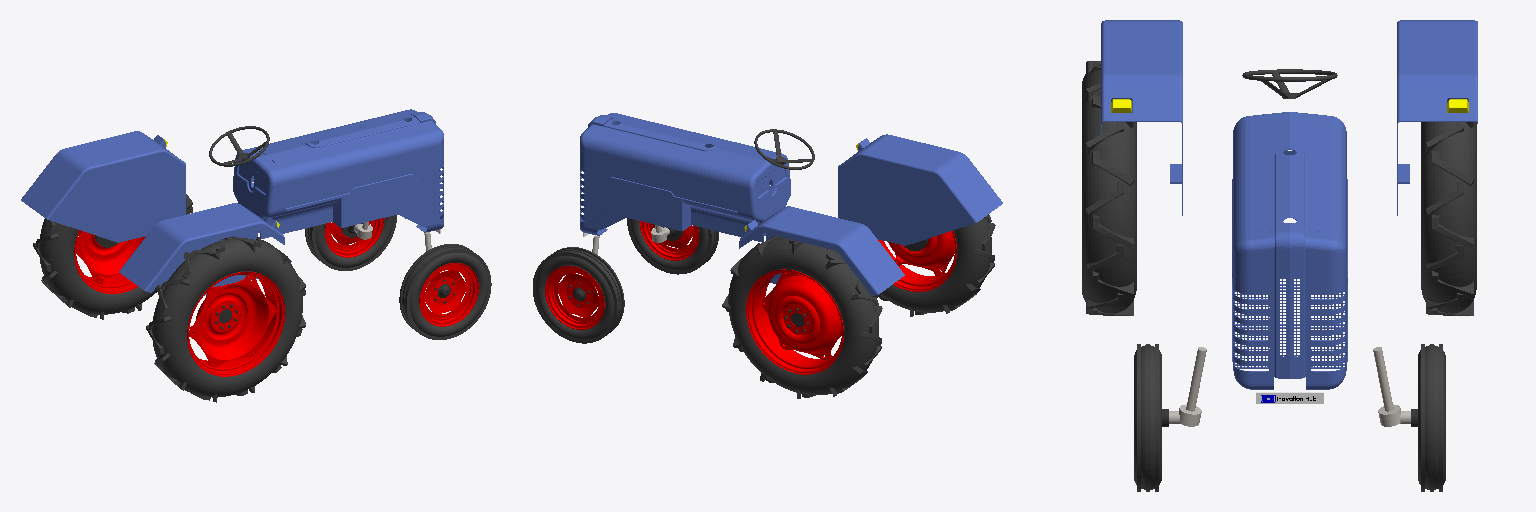
--- What the picture shows (computed from the rendered views, not written in the file) ---
The picture shows the robot from 3 angles, left to right: view 1: azimuth 30°, elevation 25°; view 2: azimuth 150°, elevation 25°; view 3: azimuth 270°, elevation 25°; orthographic projection.
Robot: Tractor4 — 22 links, 21 joints (6 continuous, 15 fixed); root link base_link; default pose: all joints at 0.
Visible links, largest first — view 1: body, rear_right_tyre, rear_right_rim, rear_left_tyre, front_right_tyre, front_right_rim, rear_left_rim, front_left_tyre, front_left_rim, driver; view 2: body, rear_left_tyre, rear_left_rim, rear_right_tyre, front_left_tyre, front_left_rim, rear_right_rim, front_right_tyre, front_right_rim, driver; view 3: body, rear_right_tyre, rear_left_tyre, front_left_tyre, front_right_tyre, driver, front_left_steering, front_right_steering, backplate, ligth.
Link boxes in pixels (x1,y1,x2,y2): body: (21, 109, 443, 295); rear_right_tyre: (146, 236, 305, 402); rear_right_rim: (187, 271, 284, 376); rear_left_tyre: (33, 194, 192, 319); front_right_tyre: (399, 244, 491, 339); front_right_rim: (419, 263, 478, 326); rear_left_rim: (74, 230, 145, 293); front_left_tyre: (305, 215, 396, 270); front_left_rim: (325, 218, 384, 257); driver: (209, 126, 269, 166); body: (580, 113, 1002, 296); rear_left_tyre: (722, 236, 882, 398); rear_left_rim: (746, 269, 843, 374); rear_right_tyre: (873, 214, 995, 316); front_left_tyre: (533, 247, 624, 343); front_left_rim: (545, 266, 604, 329); rear_right_rim: (878, 231, 956, 291); front_right_tyre: (627, 218, 718, 274); front_right_rim: (639, 221, 698, 260); driver: (754, 129, 814, 169); body: (1101, 20, 1477, 389); rear_right_tyre: (1082, 61, 1136, 315); rear_left_tyre: (1421, 122, 1476, 315); front_left_tyre: (1418, 344, 1445, 491); front_right_tyre: (1134, 344, 1161, 491); driver: (1242, 69, 1337, 98); front_left_steering: (1373, 347, 1410, 426); front_right_steering: (1169, 347, 1206, 426); backplate: (1256, 392, 1323, 403); ligth: (1111, 99, 1468, 112).
Size in the robot's own frame: 2.75 by 1.75 by 1.5 metres.
21 mesh visuals loaded from 22 distinct referenced files (21 binary STL); not drawn: 1 (reference not matched to a file when rendering).

robot.urdf — Tractor4:
<?xml version="1.0" encoding="utf-8"?>
<!-- This URDF was automatically created by SolidWorks to URDF Exporter! Originally created by Stephen Brawner ([email redacted]) 
     Commit Version: 1.6.0-4-g7f85cfe  Build Version: 1.6.7995.38578
     For more information, please see http://wiki.ros.org/sw_urdf_exporter -->
<robot
  name="Tractor4">
  <link
    name="base_link">
    <inertial>
      <origin
        xyz="0.10143 -0.00047213 0.12058"
        rpy="0 0 0" />
      <mass
        value="173.31" />
      <inertia
        ixx="5.0819"
        ixy="0.0048009"
        ixz="-0.024768"
        iyy="6.8242"
        iyz="-0.0042735"
        izz="9.0147" />
    </inertial>
    <visual>
      <origin
        xyz="0 0 0"
        rpy="0 0 0" />
      <geometry>
        <mesh
          filename="package://tractor_description/meshes/visual/base_link.STL" />
      </geometry>
      <material
        name="">
        <color
          rgba="0.25 0.25 0.25 1" />
      </material>
    </visual>
    <collision>
      <origin
        xyz="0 0 0"
        rpy="0 0 0" />
      <geometry>
        <mesh
          filename="package://tractor_description/meshes/visual/base_link.STL" />
      </geometry>
    </collision>
  </link>
  <link
    name="dk_logo_frame">
    <inertial>
      <origin
        xyz="-0.099222 -2.0817E-17 -0.0125"
        rpy="0 0 0" />
      <mass
        value="0.0098297" />
      <inertia
        ixx="1.0288E-06"
        ixy="-5.5081E-22"
        ixz="-2.3552E-22"
        iyy="3.4651E-06"
        iyz="-1.4012E-23"
        izz="4.4529E-06" />
    </inertial>
    <visual>
      <origin
        xyz="0 0 0"
        rpy="0 0 0" />
      <geometry>
        <mesh
          filename="package://tractor_description/meshes/visual/dk_logo_frame.STL" />
      </geometry>
      <material
        name="">
        <color
          rgba="0 0 1 1" />
      </material>
    </visual>
    <collision>
      <origin
        xyz="0 0 0"
        rpy="0 0 0" />
      <geometry>
        <mesh
          filename="package://tractor_description/meshes/visual/dk_logo_frame.STL" />
      </geometry>
    </collision>
  </link>
  <joint
    name="dk_logo_frame_joint"
    type="fixed">
    <origin
      xyz="1.34990899028511 0.00301220430976148 -0.0329999999999998"
      rpy="-1.5707963267949 0 1.5707963267949" />
    <parent
      link="base_link" />
    <child
      link="dk_logo_frame" />
    <axis
      xyz="0 0 0" />
  </joint>
  <link
    name="dk_word">
    <inertial>
      <origin
        xyz="0.00035618 -0.00013532 -0.012369"
        rpy="0 0 0" />
      <mass
        value="0.00040282" />
      <inertia
        ixx="6.16E-09"
        ixy="-1.4975E-10"
        ixz="-1.0686E-14"
        iyy="3.35E-09"
        iyz="-6.2806E-16"
        izz="8.7329E-09" />
    </inertial>
    <visual>
      <origin
        xyz="0 0 0"
        rpy="0 0 0" />
      <geometry>
        <mesh
          filename="package://tractor_description/meshes/visual/dk_word.STL" />
      </geometry>
      <material
        name="">
        <color
          rgba="1 1 1 1" />
      </material>
    </visual>
    <collision>
      <origin
        xyz="0 0 0"
        rpy="0 0 0" />
      <geometry>
        <mesh
          filename="package://tractor_description/meshes/visual/dk_word.STL" />
      </geometry>
    </collision>
  </link>
  <joint
    name="dk_word_joint"
    type="fixed">
    <origin
      xyz="-0.0992222959492163 0 -0.00300000000000011"
      rpy="0 0 0" />
    <parent
      link="dk_logo_frame" />
    <child
      link="dk_word" />
    <axis
      xyz="0 0 0" />
  </joint>
  <link
    name="inovation_word">
    <inertial>
      <origin
        xyz="0.01677 0.0015005 -0.013"
        rpy="0 0 0" />
      <mass
        value="0.0076677" />
      <inertia
        ixx="1.7789E-07"
        ixy="-5.6737E-09"
        ixz="1.1923E-13"
        iyy="1.4187E-07"
        iyz="8.9729E-14"
        izz="2.7375E-07" />
    </inertial>
    <visual>
      <origin
        xyz="0 0 0"
        rpy="0 0 0" />
      <geometry>
        <mesh
          filename="package://tractor_description/meshes/visual/inovation_word.STL" />
      </geometry>
      <material
        name="">
        <color
          rgba="0 0 0 1" />
      </material>
    </visual>
    <collision>
      <origin
        xyz="0 0 0"
        rpy="0 0 0" />
      <geometry>
        <mesh
          filename="package://tractor_description/meshes/visual/inovation_word.STL" />
      </geometry>
    </collision>
  </link>
  <joint
    name="inovation_word_joint"
    type="fixed">
    <origin
      xyz="0.01 0 0"
      rpy="0 0 0" />
    <parent
      link="dk_logo_frame" />
    <child
      link="inovation_word" />
    <axis
      xyz="0 0 0" />
  </joint>
  <link
    name="backplate">
    <inertial>
      <origin
        xyz="-0.0030122 -2.0817E-17 -0.005"
        rpy="0 0 0" />
      <mass
        value="0.15" />
      <inertia
        ixx="3.25E-05"
        ixy="-1.676E-19"
        ixz="-4.6118E-20"
        iyy="0.0011263"
        iyz="-8.8258E-22"
        izz="0.0011563" />
    </inertial>
    <visual>
      <origin
        xyz="0 0 0"
        rpy="0 0 0" />
      <geometry>
        <mesh
          filename="package://tractor_description/meshes/visual/backplate.STL" />
      </geometry>
      <material
        name="">
        <color
          rgba="1 1 1 1" />
      </material>
    </visual>
    <collision>
      <origin
        xyz="0 0 0"
        rpy="0 0 0" />
      <geometry>
        <mesh
          filename="package://tractor_description/meshes/visual/backplate.STL" />
      </geometry>
    </collision>
  </link>
  <joint
    name="backplate_joint"
    type="fixed">
    <origin
      xyz="0 0 0"
      rpy="0 0 0" />
    <parent
      link="dk_logo_frame" />
    <child
      link="backplate" />
    <axis
      xyz="0 0 0" />
  </joint>
  <link
    name="body">
    <inertial>
      <origin
        xyz="-0.0001275 0.063879 0.032556"
        rpy="0 0 0" />
      <mass
        value="13.925" />
      <inertia
        ixx="1.4999"
        ixy="-0.00044694"
        ixz="-0.00095531"
        iyy="1.5016"
        iyz="-0.014001"
        izz="0.77067" />
    </inertial>
    <visual>
      <origin
        xyz="0 0 0"
        rpy="0 0 0" />
      <geometry>
        <mesh
          filename="package://tractor_description/meshes/visual/body.STL" />
      </geometry>
      <material
        name="">
        <color
          rgba="0.38039 0.47843 0.78824 1" />
      </material>
    </visual>
    <collision>
      <origin
        xyz="0 0 0"
        rpy="0 0 0" />
      <geometry>
        <mesh
          filename="package://tractor_description/meshes/visual/body.STL" />
      </geometry>
    </collision>
  </link>
  <joint
    name="body_joint"
    type="fixed">
    <origin
      xyz="0.112908990285108 0 0.436438756216135"
      rpy="1.5707963267949 0 -1.5707963267949" />
    <parent
      link="base_link" />
    <child
      link="body" />
    <axis
      xyz="0 0 0" />
  </joint>
  <link
    name="ligth">
    <inertial>
      <origin
        xyz="-0.7425 0.0026349 -0.019674"
        rpy="0 0 0" />
      <mass
        value="0.058713" />
      <inertia
        ixx="2.6507E-05"
        ixy="2.4665E-11"
        ixz="3.4099E-12"
        iyy="5.9604E-05"
        iyz="-1.6742E-06"
        izz="7.1881E-05" />
    </inertial>
    <visual>
      <origin
        xyz="0 0 0"
        rpy="0 0 0" />
      <geometry>
        <mesh
          filename="package://tractor_description/meshes/visual/ligth.STL" />
      </geometry>
      <material
        name="">
        <color
          rgba="1 1 0 1" />
      </material>
    </visual>
    <collision>
      <origin
        xyz="0 0 0"
        rpy="0 0 0" />
      <geometry>
        <mesh
          filename="package://tractor_description/meshes/visual/ligth.STL" />
      </geometry>
    </collision>
  </link>
  <joint
    name="ligth_joint"
    type="fixed">
    <origin
      xyz="0.7425 0.181034790991385 0.394057481279846"
      rpy="0.718829999621625 0 0" />
    <parent
      link="body" />
    <child
      link="ligth" />
    <axis
      xyz="0 0 0" />
  </joint>
  <link
    name="rear_left_motor">
    <inertial>
      <origin
        xyz="0 -0.019645 0"
        rpy="0 0 0" />
      <mass
        value="1.1526" />
      <inertia
        ixx="0.0032601"
        ixy="1.2716E-19"
        ixz="-5.4387E-19"
        iyy="0.0059794"
        iyz="-5.9776E-19"
        izz="0.0032601" />
    </inertial>
    <visual>
      <origin
        xyz="0 0 0"
        rpy="0 0 0" />
      <geometry>
        <mesh
          filename="package://tractor_description/meshes/visual/rear_left_motor.STL" />
      </geometry>
      <material
        name="">
        <color
          rgba="0.25 0.25 0.25 1" />
      </material>
    </visual>
    <collision>
      <origin
        xyz="0 0 0"
        rpy="0 0 0" />
      <geometry>
        <mesh
          filename="package://tractor_description/meshes/visual/rear_left_motor.STL" />
      </geometry>
    </collision>
  </link>
  <joint
    name="rear_left_motor_joint"
    type="continuous">
    <origin
      xyz="-0.650000000000011 0.78 0.0549999999999922"
      rpy="0 0 0" />
    <parent
      link="base_link" />
    <child
      link="rear_left_motor" />
    <axis
      xyz="0 -1 0" />
  </joint>
  <link
    name="rear_left_rim">
    <inertial>
      <origin
        xyz="0.0070711 0.05822 -0.0070711"
        rpy="0 0 0" />
      <mass
        value="6.243" />
      <inertia
        ixx="0.2913"
        ixy="-1.7596E-16"
        ixz="-5.8547E-16"
        iyy="0.53914"
        iyz="5.1286E-17"
        izz="0.2913" />
    </inertial>
    <visual>
      <origin
        xyz="0 0 0"
        rpy="0 0 0" />
      <geometry>
        <mesh
          filename="package://tractor_description/meshes/visual/rear_left_rim.STL" />
      </geometry>
      <material
        name="">
        <color
          rgba="1 0 0 1" />
      </material>
    </visual>
    <collision>
      <origin
        xyz="0 0 0"
        rpy="0 0 0" />
      <geometry>
        <mesh
          filename="package://tractor_description/meshes/visual/rear_left_rim.STL" />
      </geometry>
    </collision>
  </link>
  <joint
    name="rear_left_rim_joint"
    type="fixed">
    <origin
      xyz="-0.00729568849475126 0 0.00683907372292141"
      rpy="3.14159265358978 1.53850317412577 0" />
    <parent
      link="rear_left_motor" />
    <child
      link="rear_left_rim" />
    <axis
      xyz="0 0 0" />
  </joint>
  <link
    name="rear_left_tyre">
    <inertial>
      <origin
        xyz="0.00015314 7.4582E-09 -7.7559E-10"
        rpy="0 0 0" />
      <mass
        value="18.33" />
      <inertia
        ixx="4.5465"
        ixy="-2.3447E-09"
        ixz="3.4936E-10"
        iyy="2.4106"
        iyz="-6.7415E-10"
        izz="2.4106" />
    </inertial>
    <visual>
      <origin
        xyz="0 0 0"
        rpy="0 0 0" />
      <geometry>
        <mesh
          filename="package://tractor_description/meshes/visual/rear_left_tyre.STL" />
      </geometry>
      <material
        name="">
        <color
          rgba="0.29804 0.29804 0.29804 1" />
      </material>
    </visual>
    <collision>
      <origin
        xyz="0 0 0"
        rpy="0 0 0" />
      <geometry>
        <mesh
          filename="package://tractor_description/meshes/visual/rear_left_tyre.STL" />
      </geometry>
    </collision>
  </link>
  <joint
    name="rear_left_tyre_joint"
    type="fixed">
    <origin
      xyz="0.00707106781186501 0.0780000000000001 -0.00707106781186562"
      rpy="-1.57079632679489 0 -1.5707963267949" />
    <parent
      link="rear_left_rim" />
    <child
      link="rear_left_tyre" />
    <axis
      xyz="0 0 0" />
  </joint>
  <link
    name="rear_right_motor">
    <inertial>
      <origin
        xyz="0 -0.019645 -1.3878E-17"
        rpy="0 0 0" />
      <mass
        value="1.1526" />
      <inertia
        ixx="0.0032601"
        ixy="-3.1038E-20"
        ixz="7.8169E-20"
        iyy="0.0059794"
        iyz="-1.4541E-19"
        izz="0.0032601" />
    </inertial>
    <visual>
      <origin
        xyz="0 0 0"
        rpy="0 0 0" />
      <geometry>
        <mesh
          filename="package://tractor_description/meshes/visual/rear_right_motor.STL" />
      </geometry>
      <material
        name="">
        <color
          rgba="0.25 0.25 0.25 1" />
      </material>
    </visual>
    <collision>
      <origin
        xyz="0 0 0"
        rpy="0 0 0" />
      <geometry>
        <mesh
          filename="package://tractor_description/meshes/visual/rear_right_motor.STL" />
      </geometry>
    </collision>
  </link>
  <joint
    name="rear_right_motor_joint"
    type="continuous">
    <origin
      xyz="-0.650000000000011 -0.77 0.0549999999999923"
      rpy="0 0 3.14159265358979" />
    <parent
      link="base_link" />
    <child
      link="rear_right_motor" />
    <axis
      xyz="0 -1 0" />
  </joint>
  <link
    name="rear_right_rim">
    <inertial>
      <origin
        xyz="0.0070711 0.031209 -0.0070711"
        rpy="0 0 0" />
      <mass
        value="6.243" />
      <inertia
        ixx="0.2913"
        ixy="7.8494E-18"
        ixz="-7.2858E-16"
        iyy="0.53914"
        iyz="2.6081E-16"
        izz="0.2913" />
    </inertial>
    <visual>
      <origin
        xyz="0 0 0"
        rpy="0 0 0" />
      <geometry>
        <mesh
          filename="package://tractor_description/meshes/visual/rear_right_rim.STL" />
      </geometry>
      <material
        name="">
        <color
          rgba="1 0 0 1" />
      </material>
    </visual>
    <collision>
      <origin
        xyz="0 0 0"
        rpy="0 0 0" />
      <geometry>
        <mesh
          filename="package://tractor_description/meshes/visual/rear_right_rim.STL" />
      </geometry>
    </collision>
  </link>
  <joint
    name="rear_right_rim_joint"
    type="fixed">
    <origin
      xyz="0.00957065582978023 0 -0.0028987147130916"
      rpy="-3.14159265358979 0.491305622929175 -3.14159265358979" />
    <parent
      link="rear_right_motor" />
    <child
      link="rear_right_rim" />
    <axis
      xyz="0 0 0" />
  </joint>
  <link
    name="rear_right_tyre">
    <inertial>
      <origin
        xyz="-0.014847 7.4582E-09 -7.7559E-10"
        rpy="0 0 0" />
      <mass
        value="18.33" />
      <inertia
        ixx="4.5465"
        ixy="-2.3447E-09"
        ixz="3.4936E-10"
        iyy="2.4106"
        iyz="-6.7416E-10"
        izz="2.4106" />
    </inertial>
    <visual>
      <origin
        xyz="0 0 0"
        rpy="0 0 0" />
      <geometry>
        <mesh
          filename="package://tractor_description/meshes/visual/rear_right_tyre.STL" />
      </geometry>
      <material
        name="">
        <color
          rgba="0.29804 0.29804 0.29804 1" />
      </material>
    </visual>
    <collision>
      <origin
        xyz="0 0 0"
        rpy="0 0 0" />
      <geometry>
        <mesh
          filename="package://tractor_description/meshes/visual/rear_right_tyre.STL" />
      </geometry>
    </collision>
  </link>
  <joint
    name="rear_right_tyre_joint"
    type="fixed">
    <origin
      xyz="0.00707106781186506 0.013 -0.00707106781186595"
      rpy="1.0471975511966 0 -1.5707963267949" />
    <parent
      link="rear_right_rim" />
    <child
      link="rear_right_tyre" />
    <axis
      xyz="0 0 0" />
  </joint>
  <link
    name="front_left_steering">
    <inertial>
      <origin
        xyz="-1.2392E-07 0.016236 -0.12249"
        rpy="0 0 0" />
      <mass
        value="1.0781" />
      <inertia
        ixx="0.01337"
        ixy="5.0751E-09"
        ixz="-1.229E-08"
        iyy="0.012202"
        iyz="0.0014478"
        izz="0.0019332" />
    </inertial>
    <visual>
      <origin
        xyz="0 0 0"
        rpy="0 0 0" />
      <geometry>
        <mesh
          filename="package://tractor_description/meshes/visual/front_left_steering.STL" />
      </geometry>
      <material
        name="">
        <color
          rgba="0.77647 0.75686 0.73725 1" />
      </material>
    </visual>
    <collision>
      <origin
        xyz="0 0 0"
        rpy="0 0 0" />
      <geometry>
        <mesh
          filename="package://tractor_description/meshes/visual/front_left_steering.STL" />
      </geometry>
    </collision>
  </link>
  <joint
    name="front_left_steering_joint"
    type="continuous">
    <origin
      xyz="1.11990899028511 0.412395277334996 -0.051176930361465"
      rpy="0.174532925199433 0 0" />
    <parent
      link="base_link" />
    <child
      link="front_left_steering" />
    <axis
      xyz="0 0 1" />
  </joint>
  <link
    name="front_left_wheel">
    <inertial>
      <origin
        xyz="-3.2512E-12 -0.047204 0"
        rpy="0 0 0" />
      <mass
        value="0.87472" />
      <inertia
        ixx="0.0015647"
        ixy="6.6305E-14"
        ixz="2.754E-19"
        iyy="0.0025275"
        iyz="-1.8908E-20"
        izz="0.0015647" />
    </inertial>
    <visual>
      <origin
        xyz="0 0 0"
        rpy="0 0 0" />
      <geometry>
        <mesh
          filename="package://tractor_description/meshes/visual/front_left_wheel.STL" />
      </geometry>
      <material
        name="">
        <color
          rgba="0.25 0.25 0.25 1" />
      </material>
    </visual>
    <collision>
      <origin
        xyz="0 0 0"
        rpy="0 0 0" />
      <geometry>
        <mesh
          filename="package://tractor_description/meshes/visual/front_left_wheel.STL" />
      </geometry>
    </collision>
  </link>
  <joint
    name="front_left_wheel_joint"
    type="continuous">
    <origin
      xyz="0 0.19203751183738 -0.223861394645051"
      rpy="-0.174532925199433 0 0" />
    <parent
      link="front_left_steering" />
    <child
      link="front_left_wheel" />
    <axis
      xyz="0 1 0" />
  </joint>
  <link
    name="front_left_rim">
    <inertial>
      <origin
        xyz="0.0060975 6.22E-13 -9.1727E-13"
        rpy="0 0 0" />
      <mass
        value="1.1956" />
      <inertia
        ixx="0.041393"
        ixy="7.7014E-13"
        ixz="-1.1354E-12"
        iyy="0.021473"
        iyz="-4.3368E-18"
        izz="0.021473" />
    </inertial>
    <visual>
      <origin
        xyz="0 0 0"
        rpy="0 0 0" />
      <geometry>
        <mesh
          filename="package://tractor_description/meshes/visual/front_left_rim.STL" />
      </geometry>
      <material
        name="">
        <color
          rgba="1 0 0 1" />
      </material>
    </visual>
    <collision>
      <origin
        xyz="0 0 0"
        rpy="0 0 0" />
      <geometry>
        <mesh
          filename="package://tractor_description/meshes/visual/front_left_rim.STL" />
      </geometry>
    </collision>
  </link>
  <joint
    name="front_left_rim_joint"
    type="fixed">
    <origin
      xyz="0 -0.01 0"
      rpy="-2.1668017780166 0 -1.5707963267949" />
    <parent
      link="front_left_wheel" />
    <child
      link="front_left_rim" />
    <axis
      xyz="0 0 0" />
  </joint>
  <link
    name="front_left_tyre">
    <inertial>
      <origin
        xyz="0.0092911 -0.0036972 -0.00099946"
        rpy="0 0 0" />
      <mass
        value="6.7245" />
      <inertia
        ixx="0.28659"
        ixy="-2.7756E-17"
        ixz="1.5144E-11"
        iyy="0.28659"
        iyz="2.4991E-08"
        izz="0.55229" />
    </inertial>
    <visual>
      <origin
        xyz="0 0 0"
        rpy="0 0 0" />
      <geometry>
        <mesh
          filename="package://tractor_description/meshes/visual/front_left_tyre.STL" />
      </geometry>
      <material
        name="">
        <color
          rgba="0.29804 0.29804 0.29804 1" />
      </material>
    </visual>
    <collision>
      <origin
        xyz="0 0 0"
        rpy="0 0 0" />
      <geometry>
        <mesh
          filename="package://tractor_description/meshes/visual/front_left_tyre.STL" />
      </geometry>
    </collision>
  </link>
  <joint
    name="front_left_tyre_joint"
    type="fixed">
    <origin
      xyz="0.00300000000000011 0.0100000000005028 0"
      rpy="1.5707963267949 -0.378785424351487 -1.5707963267949" />
    <parent
      link="front_left_rim" />
    <child
      link="front_left_tyre" />
    <axis
      xyz="0 0 0" />
  </joint>
  <link
    name="front_right_steering">
    <inertial>
      <origin
        xyz="1.2392E-07 -0.016236 -0.12249"
        rpy="0 0 0" />
      <mass
        value="1.0781" />
      <inertia
        ixx="0.01337"
        ixy="5.0752E-09"
        ixz="1.229E-08"
        iyy="0.012202"
        iyz="-0.0014478"
        izz="0.0019332" />
    </inertial>
    <visual>
      <origin
        xyz="0 0 0"
        rpy="0 0 0" />
      <geometry>
        <mesh
          filename="package://tractor_description/meshes/visual/front_right_steering.STL" />
      </geometry>
      <material
        name="">
        <color
          rgba="0.77647 0.75686 0.73725 1" />
      </material>
    </visual>
    <collision>
      <origin
        xyz="0 0 0"
        rpy="0 0 0" />
      <geometry>
        <mesh
          filename="package://tractor_description/meshes/visual/front_right_steering.STL" />
      </geometry>
    </collision>
  </link>
  <joint
    name="front_right_steering_joint"
    type="continuous">
    <origin
      xyz="1.11990899028511 -0.412395277334996 -0.0511769303614647"
      rpy="-0.174532925199433 0 0" />
    <parent
      link="base_link" />
    <child
      link="front_right_steering" />
    <axis
      xyz="0 0 1" />
  </joint>
  <link
    name="front_right_wheel">
    <inertial>
      <origin
        xyz="0 -0.047204 -4.7184E-16"
        rpy="0 0 0" />
      <mass
        value="0.87472" />
      <inertia
        ixx="0.0015647"
        ixy="6.3611E-20"
        ixz="1.1021E-19"
        iyy="0.0025275"
        iyz="1.0195E-17"
        izz="0.0015647" />
    </inertial>
    <visual>
      <origin
        xyz="0 0 0"
        rpy="0 0 0" />
      <geometry>
        <mesh
          filename="package://tractor_description/meshes/visual/front_right_wheel.STL" />
      </geometry>
      <material
        name="">
        <color
          rgba="0.25 0.25 0.25 1" />
      </material>
    </visual>
    <collision>
      <origin
        xyz="0 0 0"
        rpy="0 0 0" />
      <geometry>
        <mesh
          filename="package://tractor_description/meshes/visual/front_right_wheel.STL" />
      </geometry>
    </collision>
  </link>
  <joint
    name="front_right_wheel_joint"
    type="continuous">
    <origin
      xyz="0 -0.19203751183738 -0.223861394645056"
      rpy="-0.174532925199444 0 3.14159265358979" />
    <parent
      link="front_right_steering" />
    <child
      link="front_right_wheel" />
    <axis
      xyz="0 1 0" />
  </joint>
  <link
    name="front_right_rim">
    <inertial>
      <origin
        xyz="0.0020975 0 2.2204E-16"
        rpy="0 0 0" />
      <mass
        value="1.1956" />
      <inertia
        ixx="0.041393"
        ixy="2.2166E-18"
        ixz="6.3474E-19"
        iyy="0.021473"
        iyz="-7.7195E-17"
        izz="0.021473" />
    </inertial>
    <visual>
      <origin
        xyz="0 0 0"
        rpy="0 0 0" />
      <geometry>
        <mesh
          filename="package://tractor_description/meshes/visual/front_right_rim.STL" />
      </geometry>
      <material
        name="">
        <color
          rgba="1 0 0 1" />
      </material>
    </visual>
    <collision>
      <origin
        xyz="0 0 0"
        rpy="0 0 0" />
      <geometry>
        <mesh
          filename="package://tractor_description/meshes/visual/front_right_rim.STL" />
      </geometry>
    </collision>
  </link>
  <joint
    name="front_right_rim_joint"
    type="fixed">
    <origin
      xyz="0 -0.014 0"
      rpy="-2.13568726406672 0 -1.5707963267949" />
    <parent
      link="front_right_wheel" />
    <child
      link="front_right_rim" />
    <axis
      xyz="0 0 0" />
  </joint>
  <link
    name="front_right_tyre">
    <inertial>
      <origin
        xyz="-1.1102E-16 6.8949E-07 5.4238E-07"
        rpy="0 0 0" />
      <mass
        value="6.7245" />
      <inertia
        ixx="0.28659"
        ixy="-5.5511E-17"
        ixz="1.0699E-17"
        iyy="0.28659"
        iyz="2.0423E-08"
        izz="0.55229" />
    </inertial>
    <visual>
      <origin
        xyz="0 0 0"
        rpy="0 0 0" />
      <geometry>
        <mesh
          filename="package://tractor_description/meshes/visual/front_right_tyre.STL" />
      </geometry>
      <material
        name="">
        <color
          rgba="0.29804 0.29804 0.29804 1" />
      </material>
    </visual>
    <collision>
      <origin
        xyz="0 0 0"
        rpy="0 0 0" />
      <geometry>
        <mesh
          filename="package://tractor_description/meshes/visual/front_right_tyre.STL" />
      </geometry>
    </collision>
  </link>
  <joint
    name="front_right_tyre_joint"
    type="fixed">
    <origin
      xyz="0 0 0"
      rpy="0 -1.5707963267949 0" />
    <parent
      link="front_right_rim" />
    <child
      link="front_right_tyre" />
    <axis
      xyz="0 0 0" />
  </joint>
  <link
    name="driver">
    <inertial>
      <origin
        xyz="-0.36231 0.3011 -1.7641E-06"
        rpy="0 0 0" />
      <mass
        value="0.69304" />
      <inertia
        ixx="0.011426"
        ixy="0.0028151"
        ixz="-9.0842E-08"
        iyy="0.018135"
        iyz="2.219E-08"
        izz="0.010401" />
    </inertial>
    <visual>
      <origin
        xyz="0 0 0"
        rpy="0 0 0" />
      <geometry>
        <mesh
          filename="package://tractor_description/meshes/visual/driver.STL" />
      </geometry>
      <material
        name="">
        <color
          rgba="0.29804 0.29804 0.29804 1" />
      </material>
    </visual>
    <collision>
      <origin
        xyz="0 0 0"
        rpy="0 0 0" />
      <geometry>
        <mesh
          filename="package://tractor_description/meshes/visual/driver.STL" />
      </geometry>
    </collision>
  </link>
  <joint
    name="driver_joint"
    type="fixed">
    <origin
      xyz="-0.452284271247459 0 0.535000000000002"
      rpy="1.5707963267949 0 3.14159265358979" />
    <parent
      link="base_link" />
    <child
      link="driver" />
    <axis
      xyz="0 0 0" />
  </joint>
</robot>
